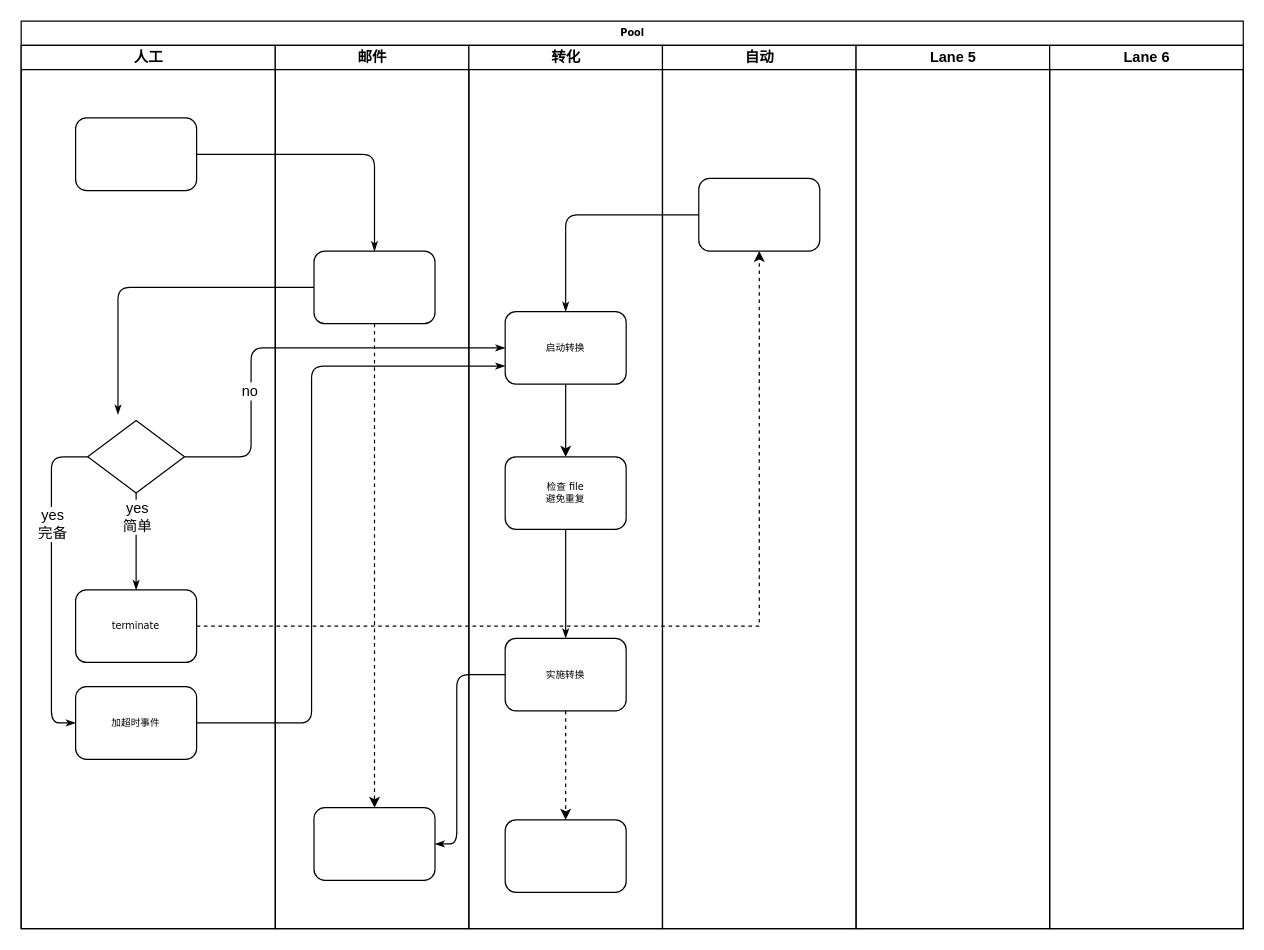
Some shapes in this 1264 by 950 pixel diagram are drawn without their labels. Each missing label, with the centre of its shape:
"在转换？" goes at point 136,456.
"注册发邮件" goes at point 374,287.
"申请发邮件" goes at point 135,154.
"自动触发转换" goes at point 759,214.
"转换后置(发邮件)" goes at point 374,843.
"转换后置(发邮件) 错误" goes at point 565,855.
